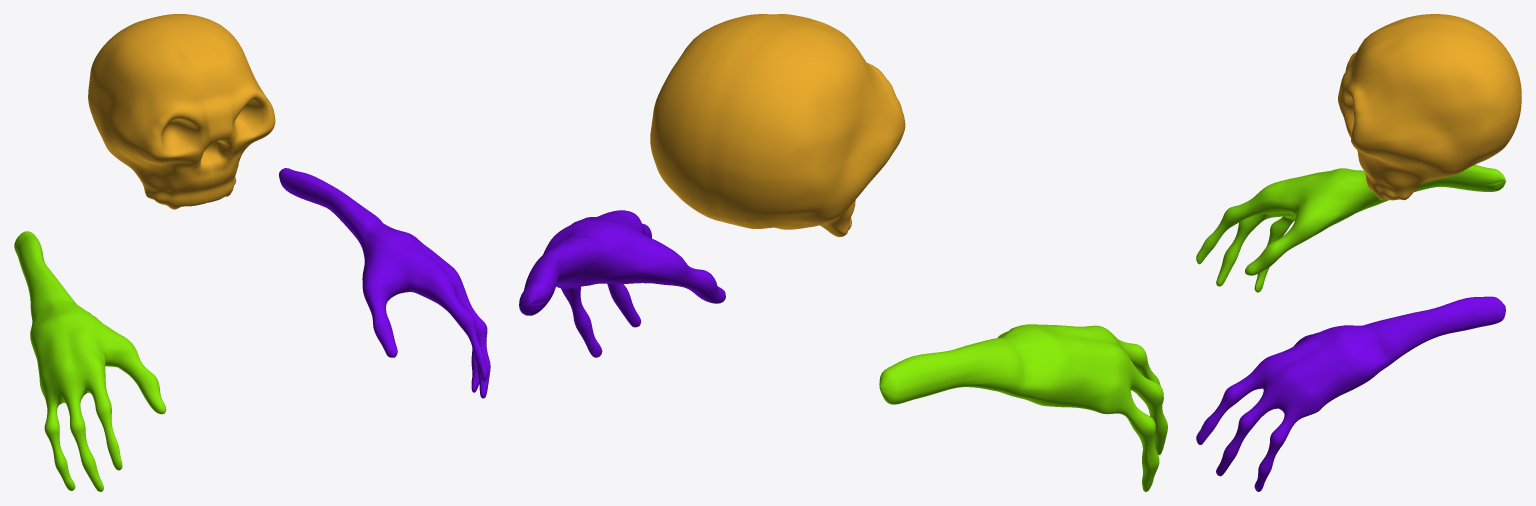
The model's file is Rhythm Boss.fbx.
The picture shows the model from 3 angles, left to right: view 1: azimuth 30°, elevation 25°; view 2: azimuth 150°, elevation 25°; view 3: azimuth 270°, elevation 25°; orthographic projection. The views are drawn at different scales.
Visible parts, largest first — view 1: polySurface43, polySurface49, polySurface48; view 2: polySurface43, polySurface49, polySurface48; view 3: polySurface43, polySurface48, polySurface49.
Boxes of the visible parts, <box> form: polySurface43: <box>88,14,275,209</box>; polySurface49: <box>14,231,166,491</box>; polySurface48: <box>279,168,490,398</box>; polySurface43: <box>650,14,905,237</box>; polySurface49: <box>879,324,1167,491</box>; polySurface48: <box>519,210,725,357</box>; polySurface43: <box>1338,14,1521,200</box>; polySurface48: <box>1196,296,1505,491</box>; polySurface49: <box>1196,164,1505,292</box>.
Bounding box in the file's own units: 146 × 115 × 93.42.
